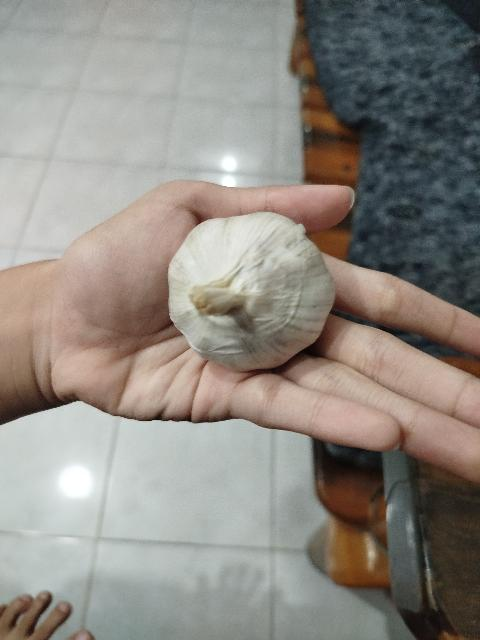garlic: (167, 210, 337, 372)
